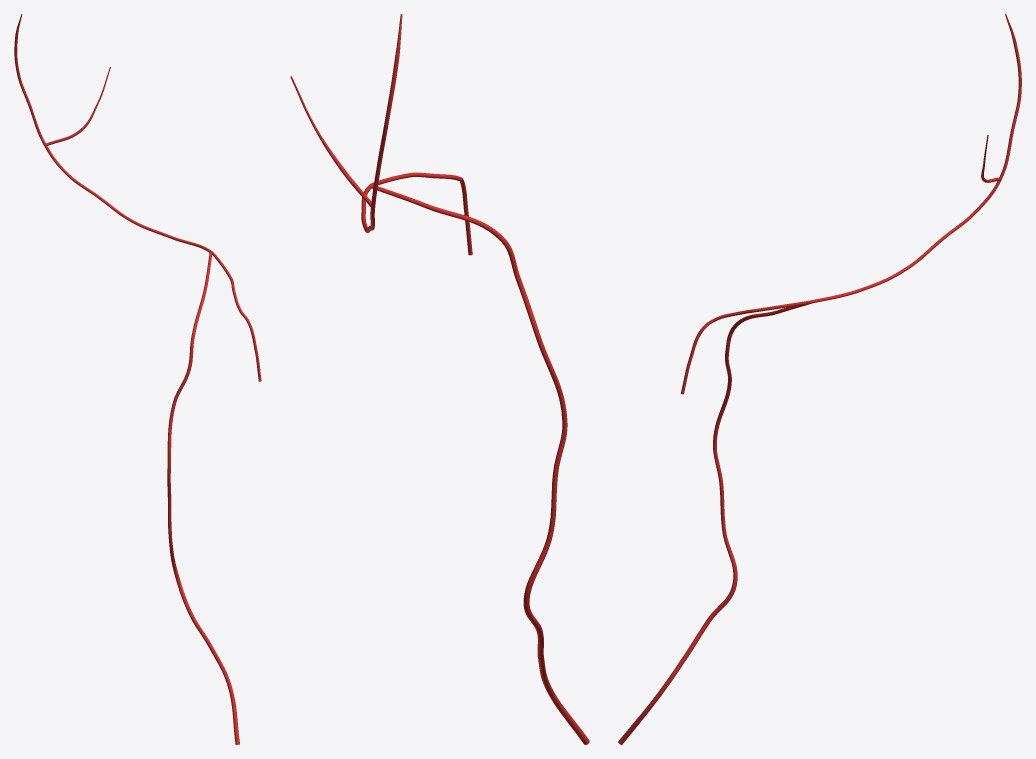
The model's file is circulatorio-vertebral-vein-l.glb.
3 views of the same model, side by side, from view 1: azimuth 30°, elevation 25°; view 2: azimuth 150°, elevation 25°; view 3: azimuth 270°, elevation 25° (orthographic). The views are drawn at different scales.
Visible parts, largest first — view 1: Vertebral vein.l, Occipital vein.l; view 2: Vertebral vein.l, Occipital vein.l; view 3: Vertebral vein.l, Occipital vein.l.
Part boxes in pixels (x1=…): Vertebral vein.l: x1=167, y1=251, x2=239, y2=744; Occipital vein.l: x1=14, y1=14, x2=261, y2=381; Vertebral vein.l: x1=372, y1=184, x2=589, y2=744; Occipital vein.l: x1=290, y1=14, x2=472, y2=255; Vertebral vein.l: x1=618, y1=303, x2=811, y2=744; Occipital vein.l: x1=681, y1=14, x2=1021, y2=394.
Bounding box in the file's own units: 0.043 × 0.234 × 0.1216.
